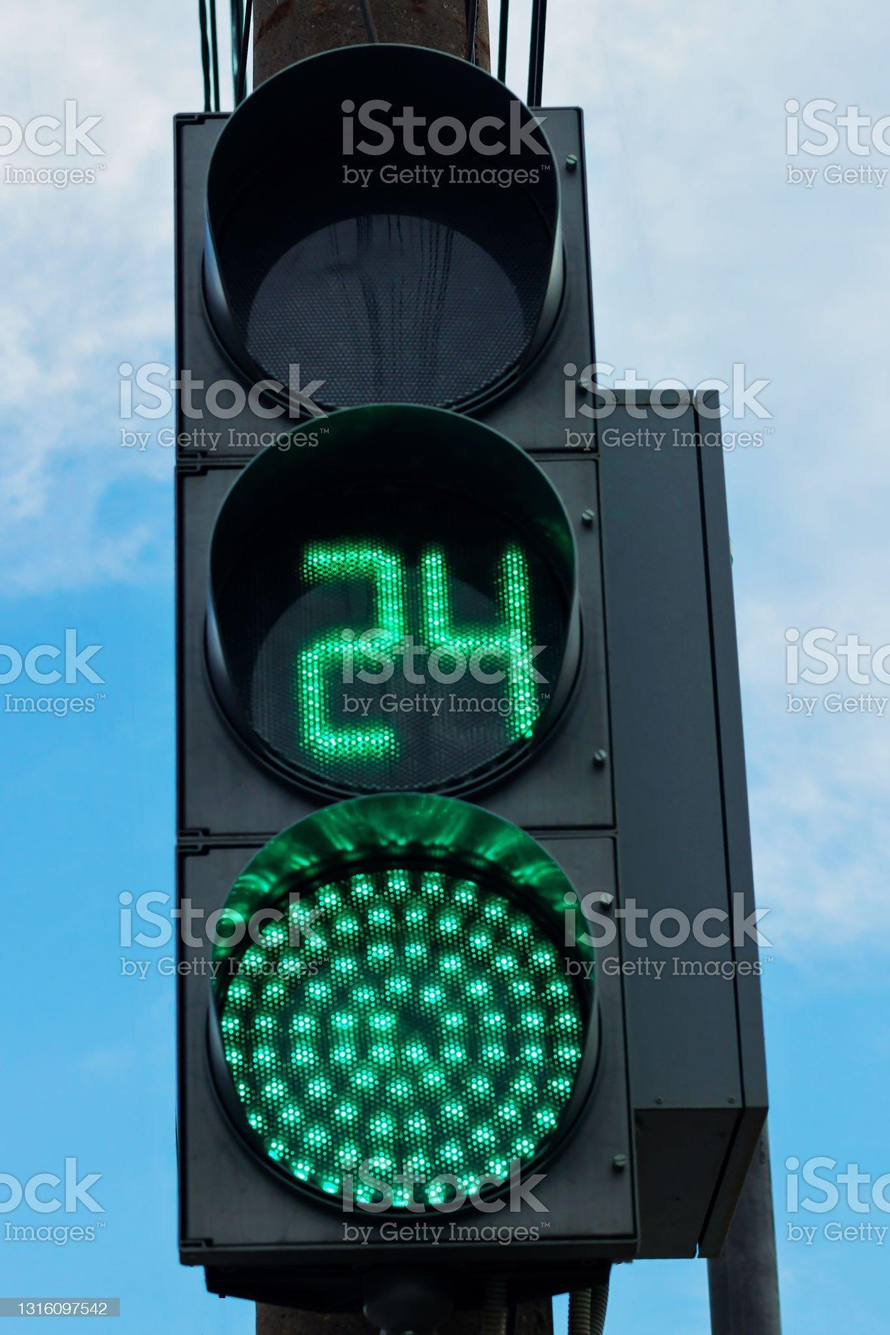green: (130, 68, 694, 1335)
